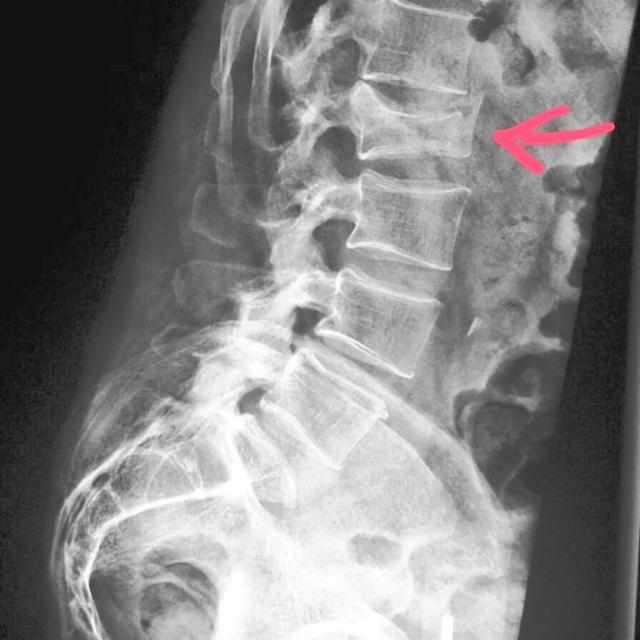Impact Fracture: (349, 67, 479, 188)
